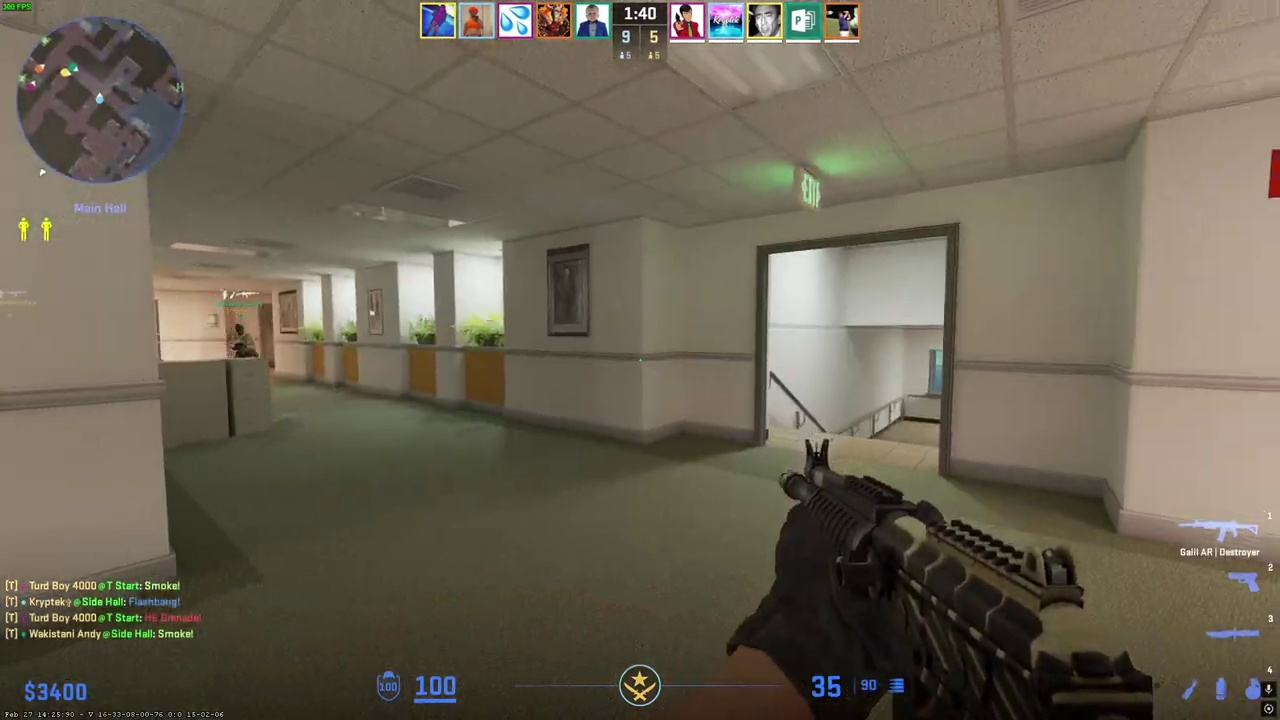Terrorist: (229, 323, 256, 358)
